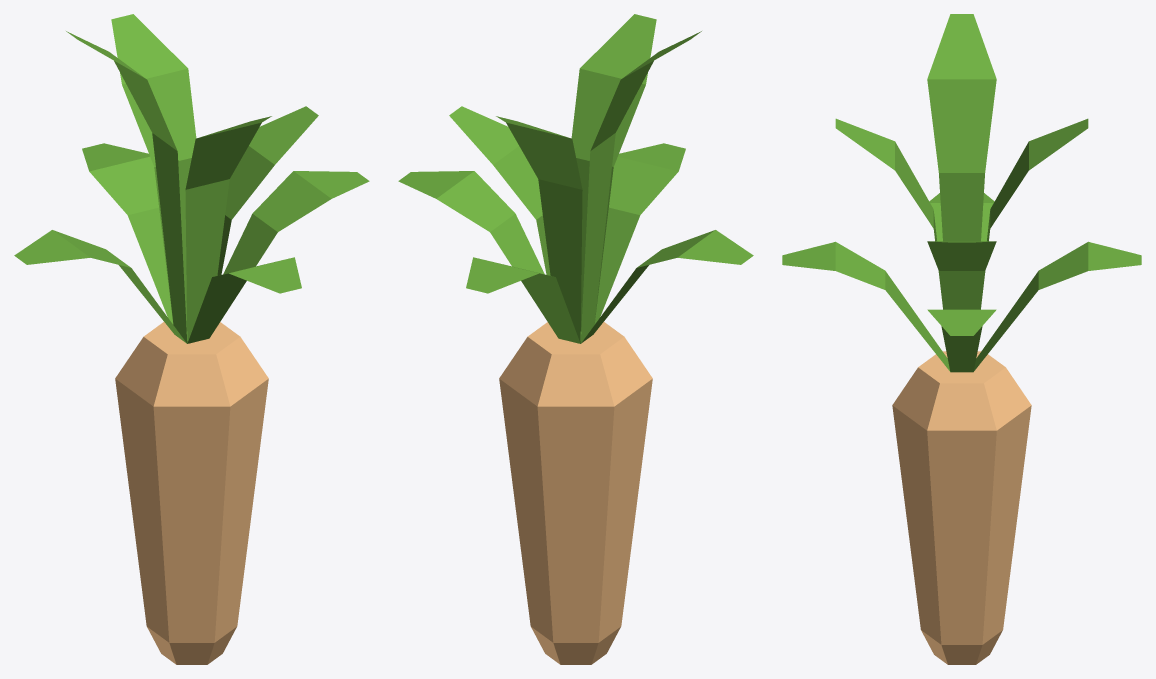
Rendered from crop_carrot.glb.
3 views of the same model, side by side, from view 1: azimuth 30°, elevation 25°; view 2: azimuth 150°, elevation 25°; view 3: azimuth 270°, elevation 25° (orthographic). The views are drawn at different scales.
Parts seen in each view (by area): view 1: crop_carrot; view 2: crop_carrot; view 3: crop_carrot.
Part boxes in pixels (x1,y1,x2,y2): crop_carrot: (14,14,369,664); crop_carrot: (398,14,753,664); crop_carrot: (782,14,1141,664).
Size of the model in its own units: 0.3431 by 0.6194 by 0.3431.
